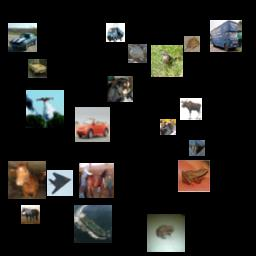airplane: (26, 90, 64, 128), (47, 170, 73, 196), (189, 140, 205, 156)
automobile: (75, 107, 110, 142), (8, 23, 37, 52), (28, 59, 47, 78)
bird: (151, 45, 183, 77), (128, 44, 147, 63)
cat: (160, 119, 176, 135)
deer: (180, 98, 202, 120)
dog: (107, 76, 133, 102)
frog: (147, 214, 185, 252), (178, 160, 210, 192), (184, 36, 200, 52)
ship: (74, 205, 112, 243)
truck: (210, 20, 242, 52), (106, 23, 125, 42)
